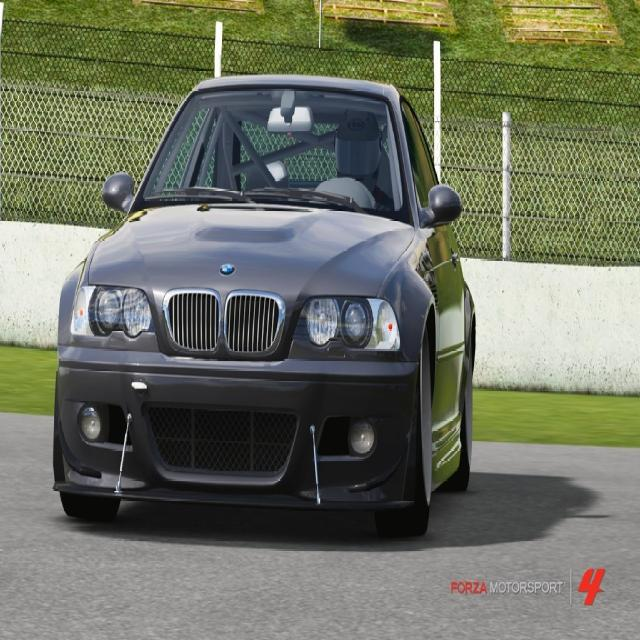car: (50, 17, 480, 539)
